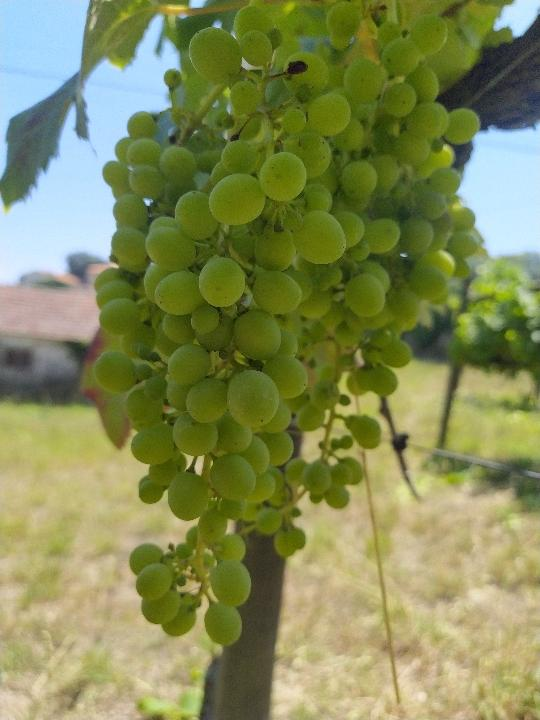grape: (89, 4, 485, 646)
